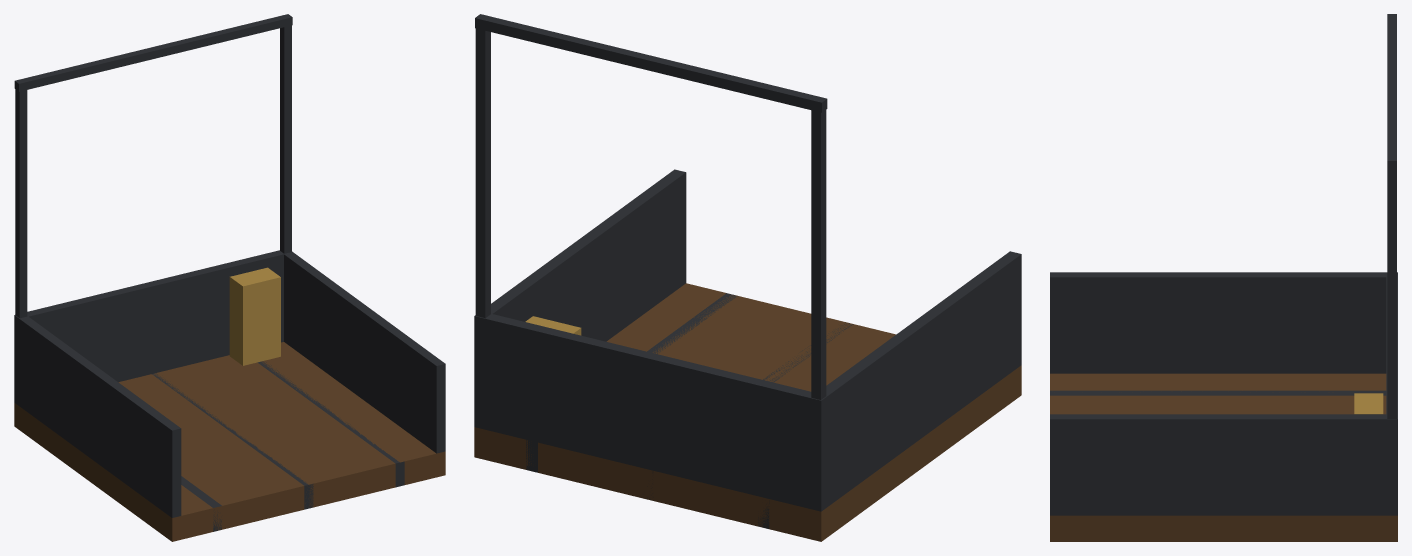
Rendered from sg_lift_platform.glb.
3 renders of one model, left to right at view 1: azimuth 30°, elevation 25°; view 2: azimuth 150°, elevation 25°; view 3: azimuth 270°, elevation 25°, orthographic. The views are drawn at different scales.
Parts seen in each view (by area): view 1: geometry_0; view 2: geometry_0; view 3: geometry_0.
Boxes of the visible parts, x1,y1,x2,y2 form: geometry_0: (14, 14, 445, 541); geometry_0: (474, 14, 1021, 541); geometry_0: (1050, 14, 1397, 541).
Bounding box in the file's own units: 3.6 × 4.35 × 3.6.
